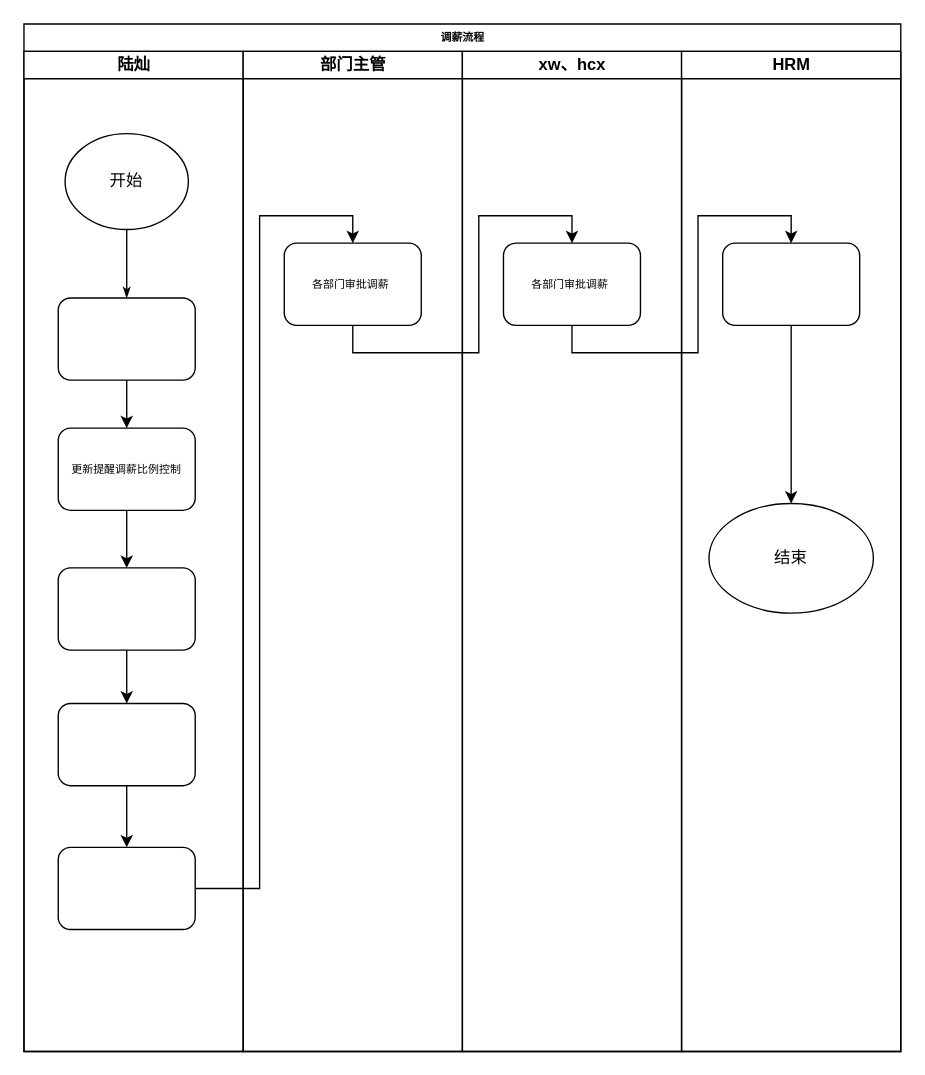
The diagram is 925 pixels wide and 1075 high, and some of its shapes have lost their labels. Here are the shapes that lost their labels. From the top down, the centre of each, then its label:
At point 790,283: "数据存储".
At point 126,338: "创建调薪模板".
At point 126,608: "创新调薪批次 ，确定适用的调薪批次模板".
At point 126,744: "同步或添加调薪人员名单".
At point 126,888: "发起调薪".
